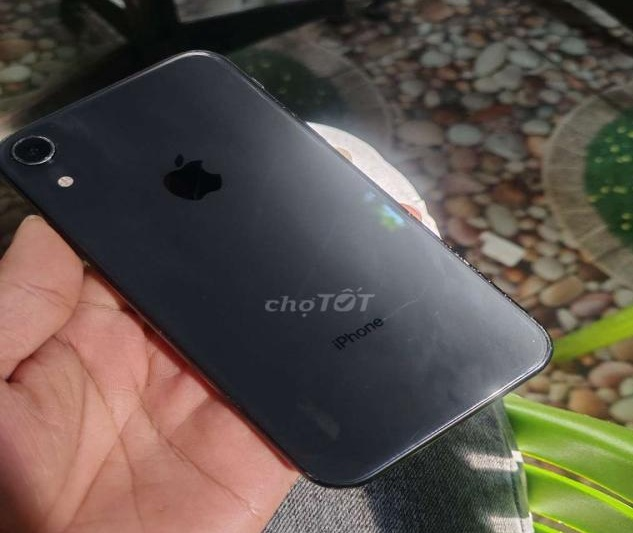scratch: (437, 234, 489, 284), (8, 136, 72, 167), (399, 201, 425, 230), (292, 466, 329, 485), (521, 331, 545, 353), (499, 288, 519, 305), (530, 312, 544, 323)
